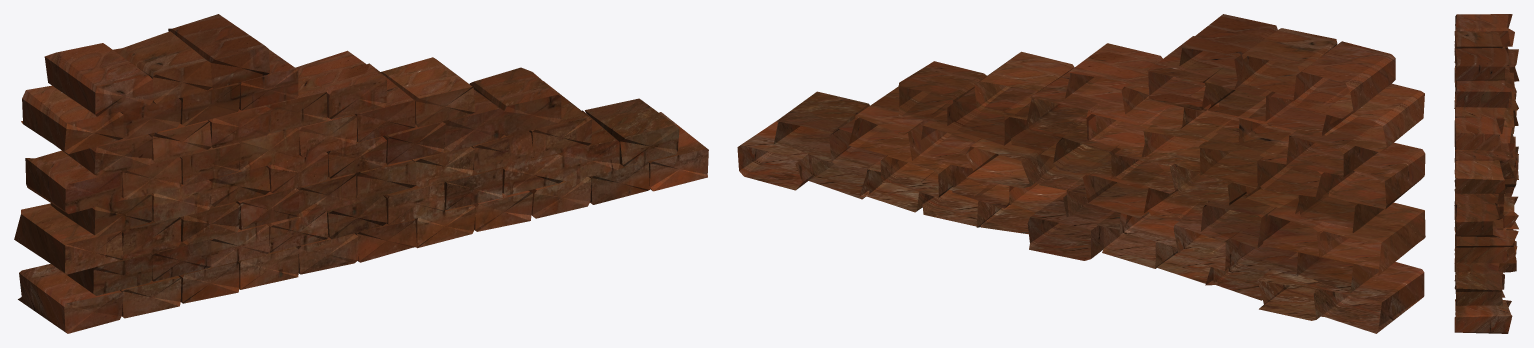
File: broken_spandrel.glb
The picture shows the model from 3 angles, left to right: view 1: azimuth 30°, elevation 25°; view 2: azimuth 150°, elevation 25°; view 3: azimuth 270°, elevation 25°; orthographic projection. The views are drawn at different scales.
Visible parts, largest first — view 1: FracturedSpandrel; view 2: FracturedSpandrel; view 3: FracturedSpandrel.
Boxes of the visible parts, x1,y1,x2,y2 form: FracturedSpandrel: [14, 14, 708, 333]; FracturedSpandrel: [737, 14, 1425, 333]; FracturedSpandrel: [1454, 14, 1519, 333].
Size of the model in its own units: 2.05 by 0.7324 by 0.2995.
Materials: 1 (1 with a texture image).
